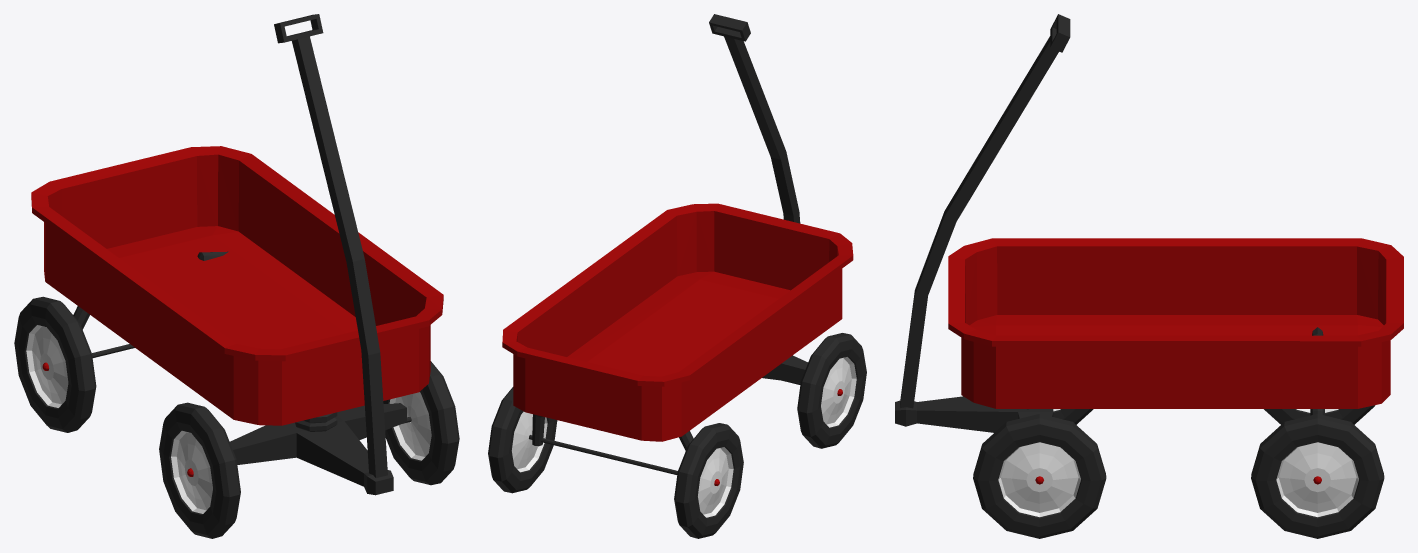
The model's file is 8HnKzYQeRYD.glb.
3 views of the same model, side by side, from view 1: azimuth 30°, elevation 25°; view 2: azimuth 150°, elevation 25°; view 3: azimuth 270°, elevation 25° (orthographic). The views are drawn at different scales.
Visible parts, largest first — view 1: Node; view 2: Node; view 3: Node.
Part boxes in pixels (<box>): Node: <box>14,14,459,538</box>; Node: <box>488,14,866,538</box>; Node: <box>895,14,1403,538</box>.
Size of the model in its own units: 0.529 by 1 by 0.9977.
